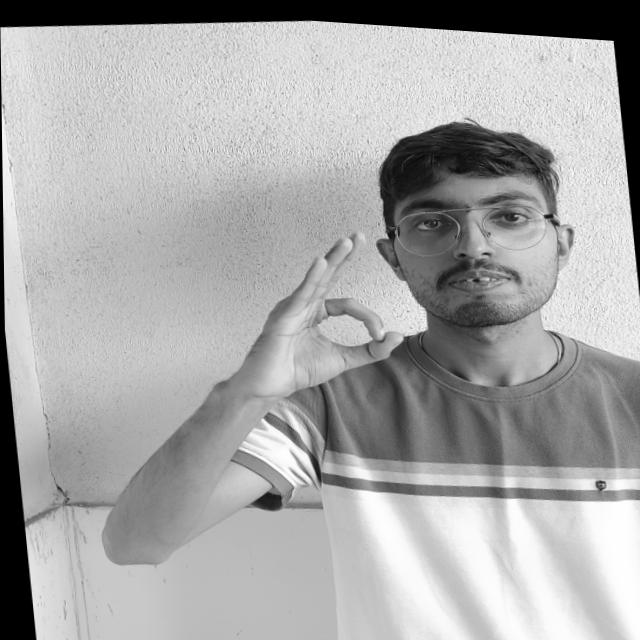Superb: (202, 192, 419, 417)
